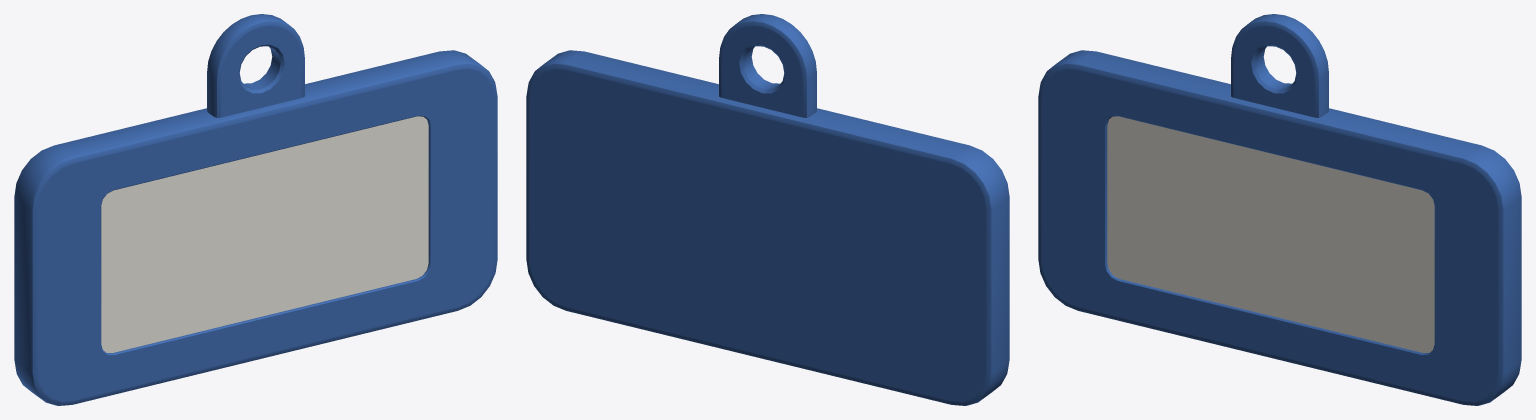
Rendered from Kit_KeyTag_Rect_Blue.fbx.
3 views of the same model, side by side, from view 1: azimuth 30°, elevation 25°; view 2: azimuth 150°, elevation 25°; view 3: azimuth 330°, elevation 25° (orthographic).
Visible parts, largest first — view 1: Kit_KeyTag_Rect_LOD0; view 2: Kit_KeyTag_Rect_LOD0; view 3: Kit_KeyTag_Rect_LOD0.
Boxes of the visible parts, left/top/right/bottom form: Kit_KeyTag_Rect_LOD0: left=14, top=14, right=497, bottom=405; Kit_KeyTag_Rect_LOD0: left=526, top=14, right=1009, bottom=405; Kit_KeyTag_Rect_LOD0: left=1038, top=14, right=1521, bottom=405.
Size of what is drawn, in the model's own units: 0.057 by 0.039 by 0.0042.
